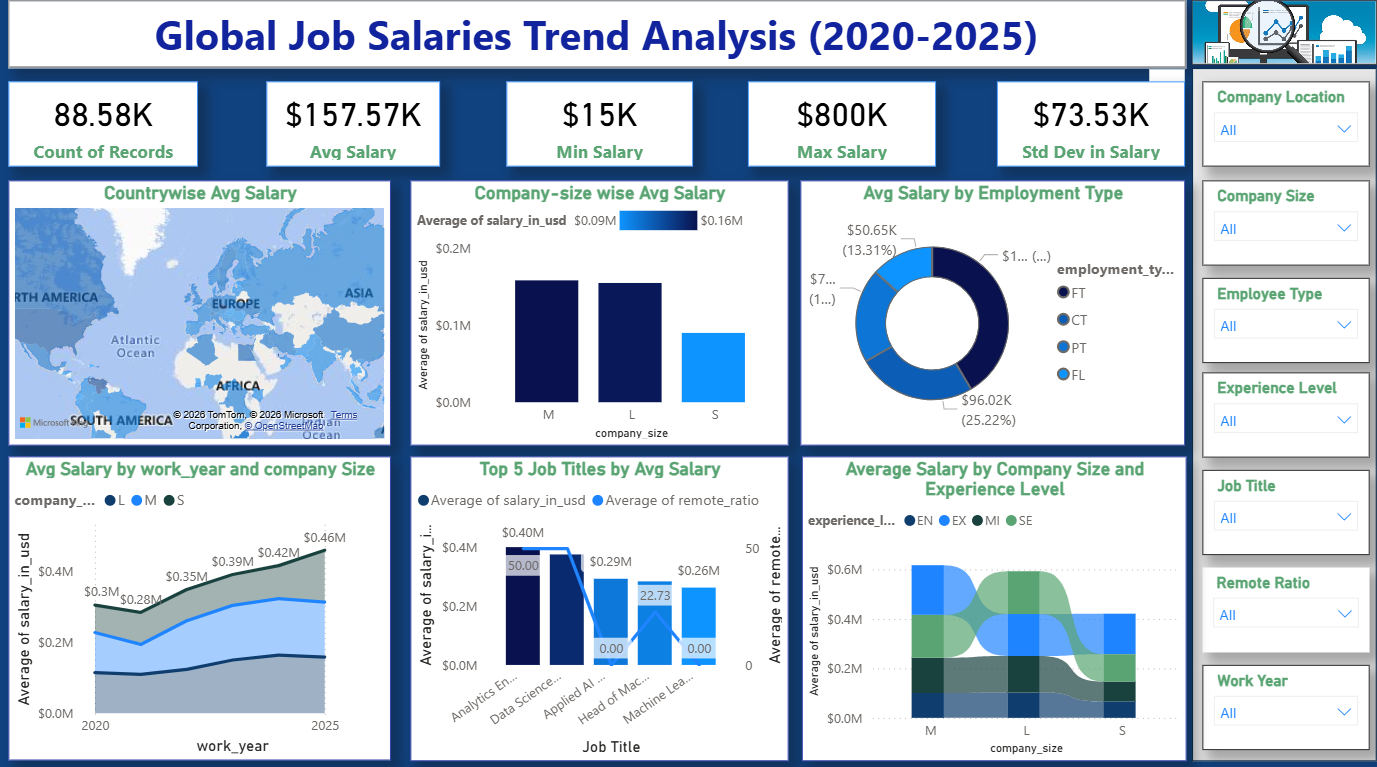

Layout of this report page (visuals, bound fields, positions):
{"tool":"powerbi","page":{"name":"JOB Salary Dashboard","canvas":[1280,720],"ordinal":0},"visuals":[{"type":"textbox","box":[12.1,1.5,1090.2,62.1],"z":0},{"type":"image","box":[1108.4,1.5,171.1,59.1],"z":1000},{"type":"card","fields":{"Values":["CountNonNull(salaries.Index)"]},"box":[12.1,75.7,175.6,78.7],"z":2000},{"type":"card","fields":{"Values":["Avg(salaries.salary_in_usd)"]},"box":[251.4,75.7,160.5,78.7],"z":3000},{"type":"card","fields":{"Values":["Min(salaries.salary_in_usd)"]},"box":[473.9,75.7,172.6,78.7],"z":4000},{"type":"card","fields":{"Values":["Max(salaries.salary_in_usd)"]},"box":[696.5,75.7,174.1,78.7],"z":5000},{"type":"card","fields":{"Values":["Sum(salaries.salary_in_usd)"]},"box":[928.2,75.7,174.1,78.7],"z":6000},{"type":"shape","box":[1108.4,63.6,171.1,642],"z":7000},{"type":"slicer","fields":{"Values":["salaries.company_location"]},"box":[1117.5,75.7,154.4,78.7],"z":8000},{"type":"slicer","fields":{"Values":["salaries.company_size"]},"box":[1117.5,168.1,154.4,78.7],"z":9000},{"type":"slicer","fields":{"Values":["salaries.employment_type"]},"box":[1117.5,258.9,154.4,78.7],"z":10000},{"type":"slicer","fields":{"Values":["salaries.experience_level"]},"box":[1117.5,345.2,154.4,78.7],"z":11000},{"type":"slicer","fields":{"Values":["salaries.job_title"]},"box":[1117.5,436.1,154.4,78.7],"z":12000},{"type":"slicer","fields":{"Values":["salaries.remote_ratio"]},"box":[1117.5,526.9,154.4,78.7],"z":13000},{"type":"filledMap","title":"Countrywise Avg Salary","fields":{"Category":["salaries.company_location"]},"box":[12.1,168.1,354.3,245.3],"z":14000},{"type":"columnChart","title":"Company-size wise Avg Salary","fields":{"Category":["salaries.company_size"],"Y":["Avg(salaries.salary_in_usd)"]},"box":[384.6,168.1,349.8,245.3],"z":15000},{"type":"donutChart","title":"Avg Salary by Employment Type","fields":{"Y":["Avg(salaries.salary_in_usd)"],"Category":["salaries.employment_type"]},"box":[746.5,168.1,355.8,245.3],"z":16000},{"type":"slicer","fields":{"Values":["salaries.work_year"]},"box":[1117.5,616.3,154.4,78.7],"z":17000},{"type":"stackedAreaChart","title":"Avg Salary by work_year and company Size","fields":{"Category":["salaries.work_year"],"Y":["Avg(salaries.salary_in_usd)"],"Series":["salaries.company_size"]},"box":[12.1,424,354.3,281.6],"z":18000},{"type":"lineStackedColumnComboChart","title":"Top 5 Job Titles by Avg Salary","fields":{"Category":["salaries.job_title"],"Y":["Avg(salaries.salary_in_usd)"],"Y2":["Avg(salaries.remote_ratio)"]},"box":[385,424,350,282],"z":19000},{"type":"ribbonChart","title":"Average Salary by Company Size and Experience Level","fields":{"Category":["salaries.company_size"],"Y":["Avg(salaries.salary_in_usd)"],"Series":["salaries.experience_level"]},"box":[747,424,356,282],"z":20000}]}

Visuals, with their boxes in screenshot pixels (x1, y1, x2, y2), scaled from the page's 1280x720 canvas onto the 1377x767 screenshot:
textbox: left=13, top=2, right=1186, bottom=68
image: left=1192, top=2, right=1376, bottom=65
card - CountNonNull(salaries.Index): left=13, top=81, right=202, bottom=164
card - Avg(salaries.salary_in_usd): left=270, top=81, right=443, bottom=164
card - Min(salaries.salary_in_usd): left=510, top=81, right=695, bottom=164
card - Max(salaries.salary_in_usd): left=749, top=81, right=937, bottom=164
card - Sum(salaries.salary_in_usd): left=999, top=81, right=1186, bottom=164
shape: left=1192, top=68, right=1376, bottom=752
slicer - salaries.company_location: left=1202, top=81, right=1368, bottom=164
slicer - salaries.company_size: left=1202, top=179, right=1368, bottom=263
slicer - salaries.employment_type: left=1202, top=276, right=1368, bottom=360
slicer - salaries.experience_level: left=1202, top=368, right=1368, bottom=452
slicer - salaries.job_title: left=1202, top=465, right=1368, bottom=548
slicer - salaries.remote_ratio: left=1202, top=561, right=1368, bottom=645
"Countrywise Avg Salary" filledMap: left=13, top=179, right=394, bottom=440
"Company-size wise Avg Salary" columnChart: left=414, top=179, right=790, bottom=440
"Avg Salary by Employment Type" donutChart: left=803, top=179, right=1186, bottom=440
slicer - salaries.work_year: left=1202, top=657, right=1368, bottom=740
"Avg Salary by work_year and company Size" stackedAreaChart: left=13, top=452, right=394, bottom=752
"Top 5 Job Titles by Avg Salary" lineStackedColumnComboChart: left=414, top=452, right=791, bottom=752
"Average Salary by Company Size and Experience Level" ribbonChart: left=804, top=452, right=1187, bottom=752
